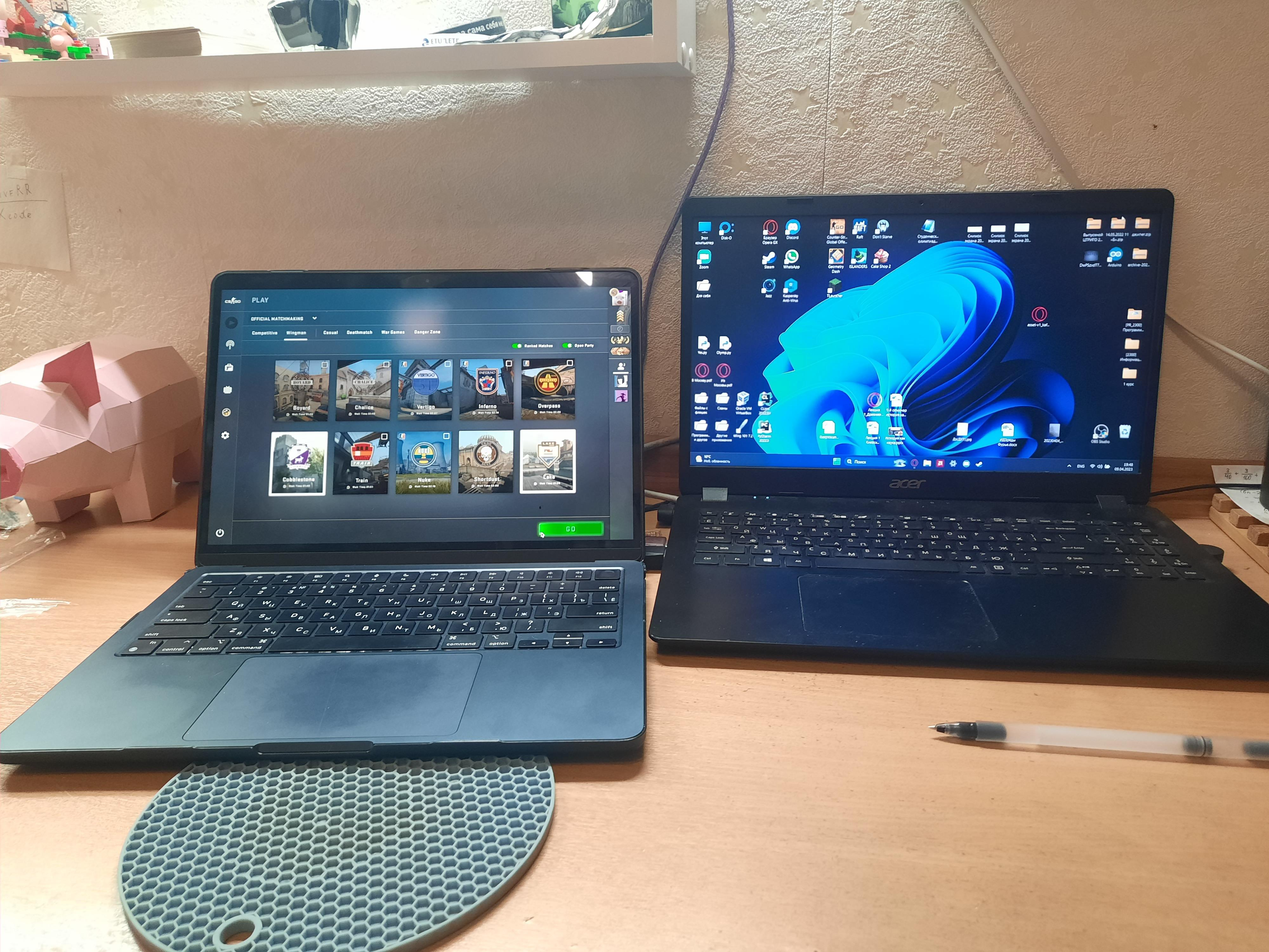monitor: (681, 182, 1180, 497), (192, 263, 655, 574)
